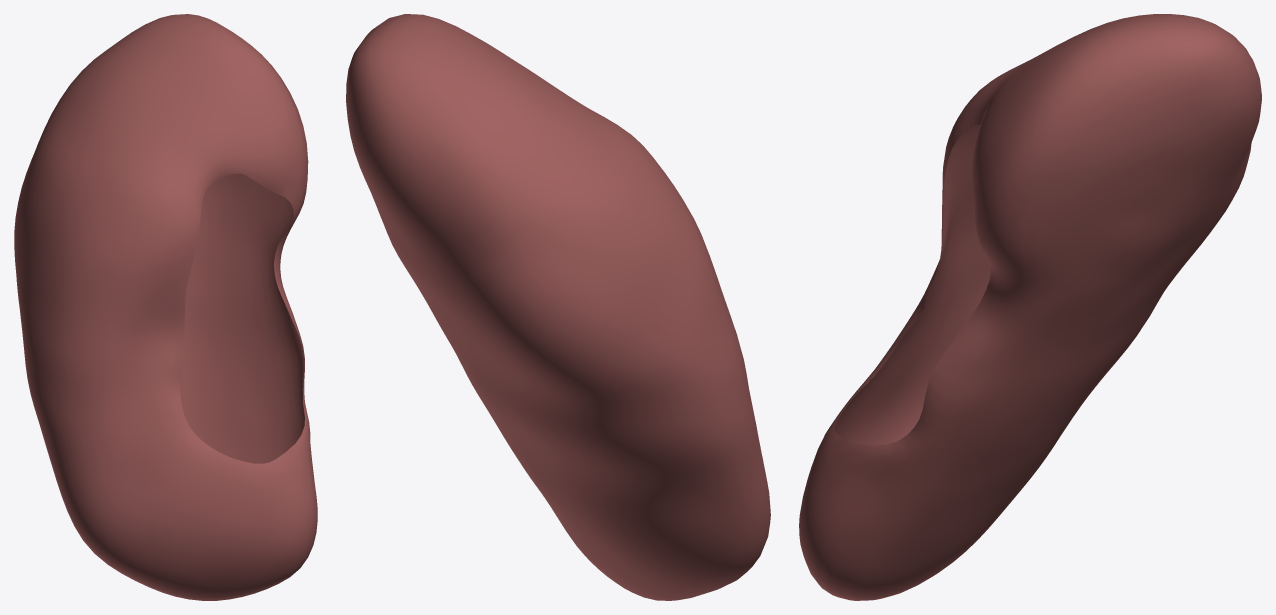
File: 3d-vh-m-kidney-r.glb
3 views of the same model, side by side, from view 1: azimuth 30°, elevation 25°; view 2: azimuth 150°, elevation 25°; view 3: azimuth 270°, elevation 25° (orthographic). The views are drawn at different scales.
Parts seen in each view (by area): view 1: VH_M_kidney_capsule_R; view 2: VH_M_kidney_capsule_R; view 3: VH_M_kidney_capsule_R.
Part boxes in pixels (left/top/right/bottom): VH_M_kidney_capsule_R: left=14, top=14, right=317, bottom=600; VH_M_kidney_capsule_R: left=346, top=14, right=770, bottom=600; VH_M_kidney_capsule_R: left=799, top=14, right=1261, bottom=600.
Bounding box in the file's own units: 0.0655 × 0.1125 × 0.0764.
